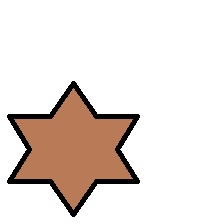star: (7, 81, 139, 219)
